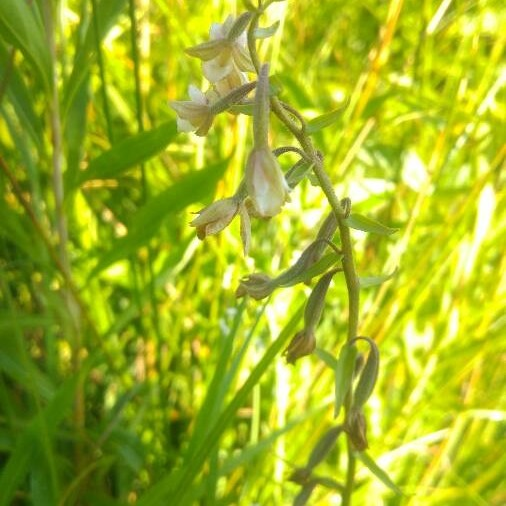obstacle: (153, 5, 386, 495)
